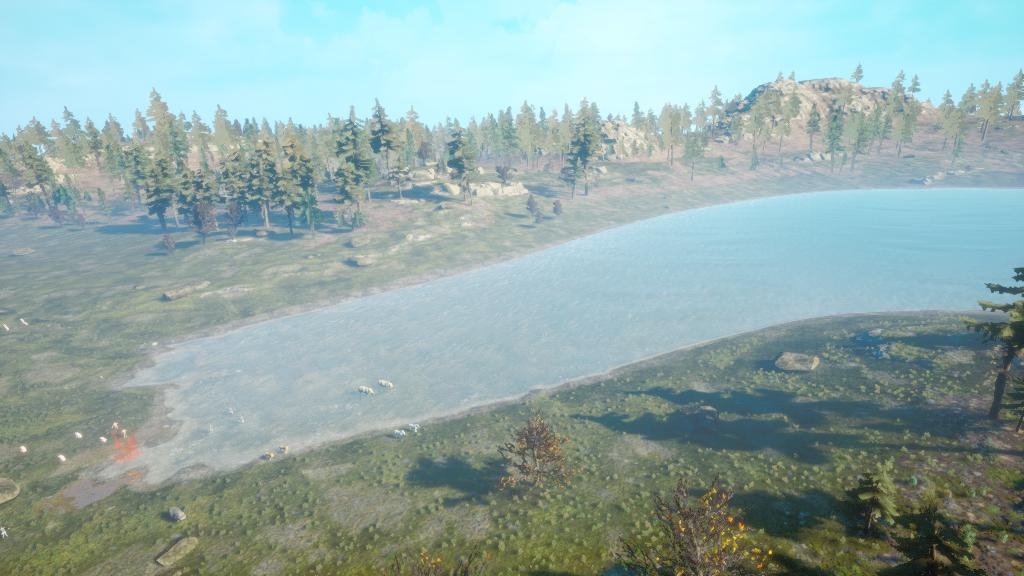Fire: (105, 440, 149, 455)
human: (112, 415, 121, 434)
lion: (274, 433, 304, 460), (258, 446, 279, 468)
pig: (9, 437, 36, 462), (67, 420, 89, 447), (53, 450, 69, 465)
rhinoceros: (373, 373, 399, 393), (354, 380, 376, 396)
zebra: (388, 423, 414, 443), (407, 418, 428, 433)
